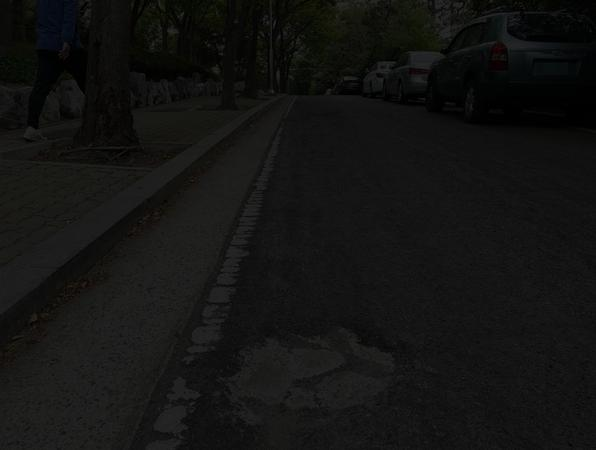pothole: (210, 315, 408, 426)
